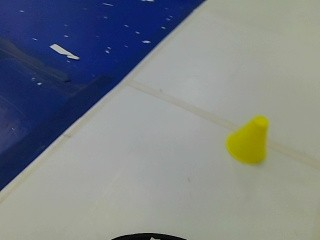cone: (224, 113, 270, 164)
